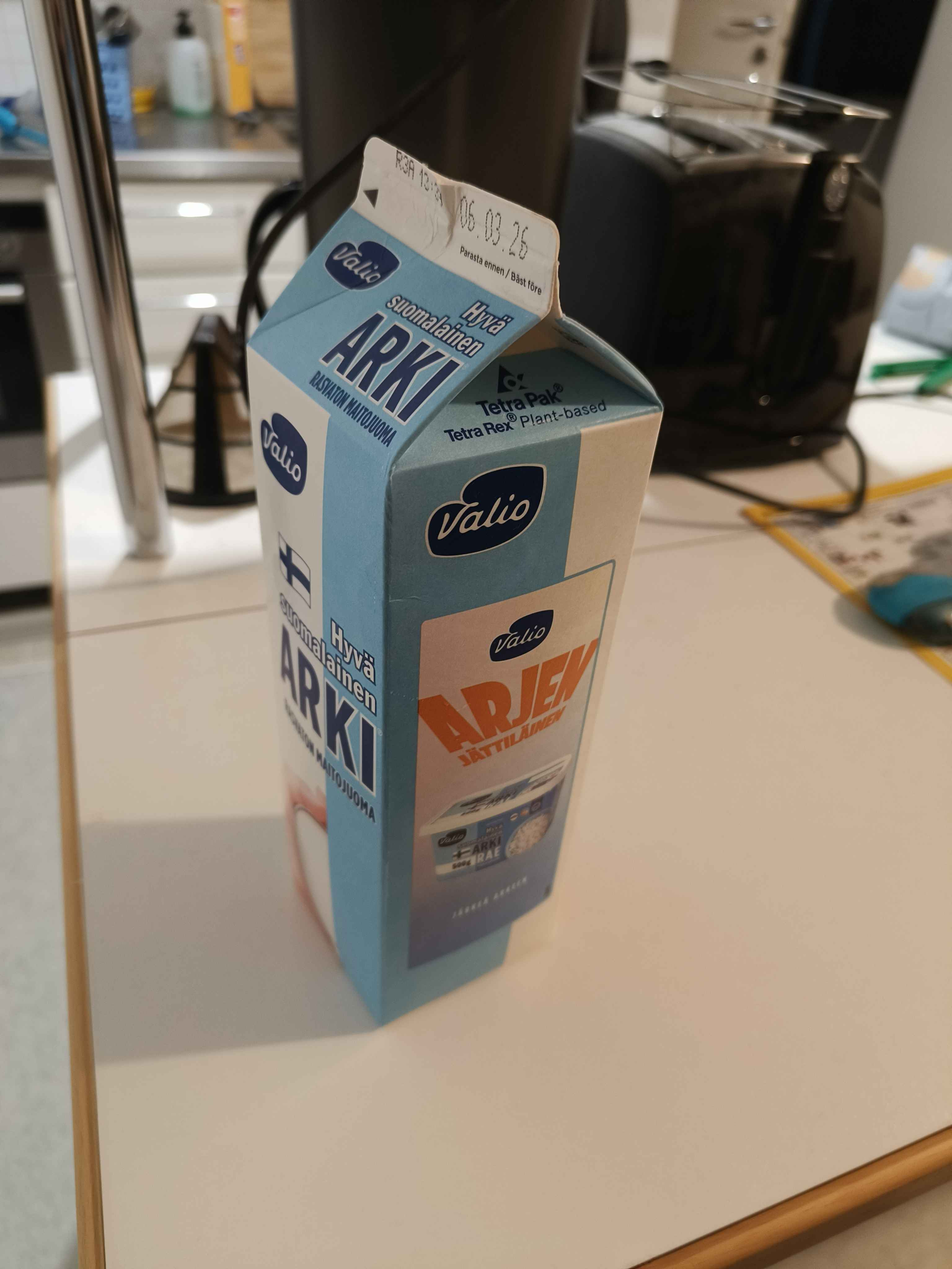Dryckeskartong: (246, 137, 664, 1028)
